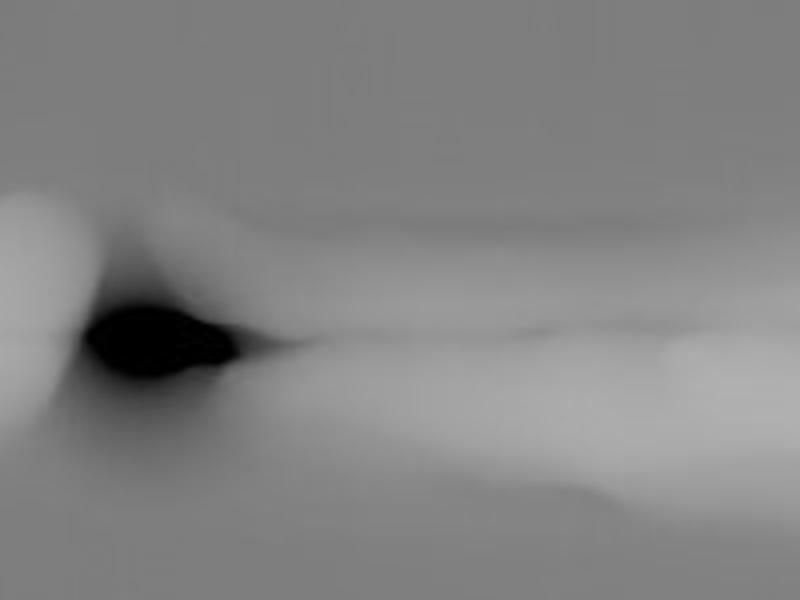defect: (79, 302, 239, 380)
